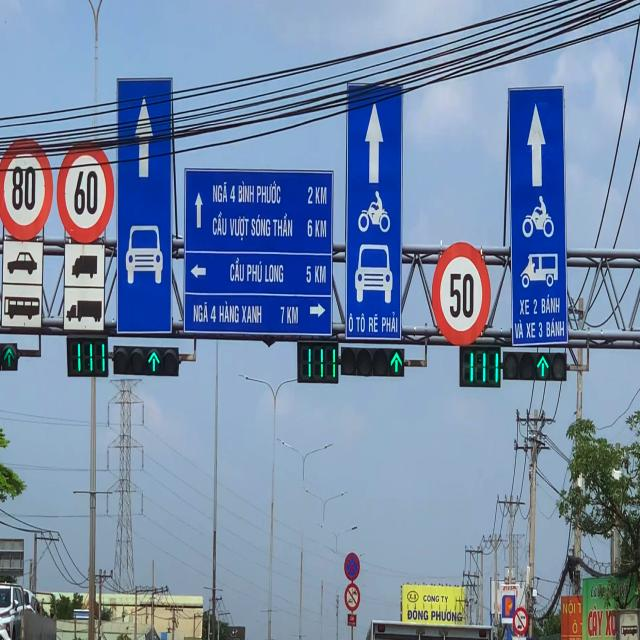Ben xe buyt: (618, 608, 640, 640)
Cam con lai: (344, 584, 360, 612), (513, 606, 528, 633)
Cam dung va do: (344, 552, 360, 581)
Toc do toi da: (432, 242, 492, 347), (57, 139, 114, 244), (0, 137, 53, 241)
